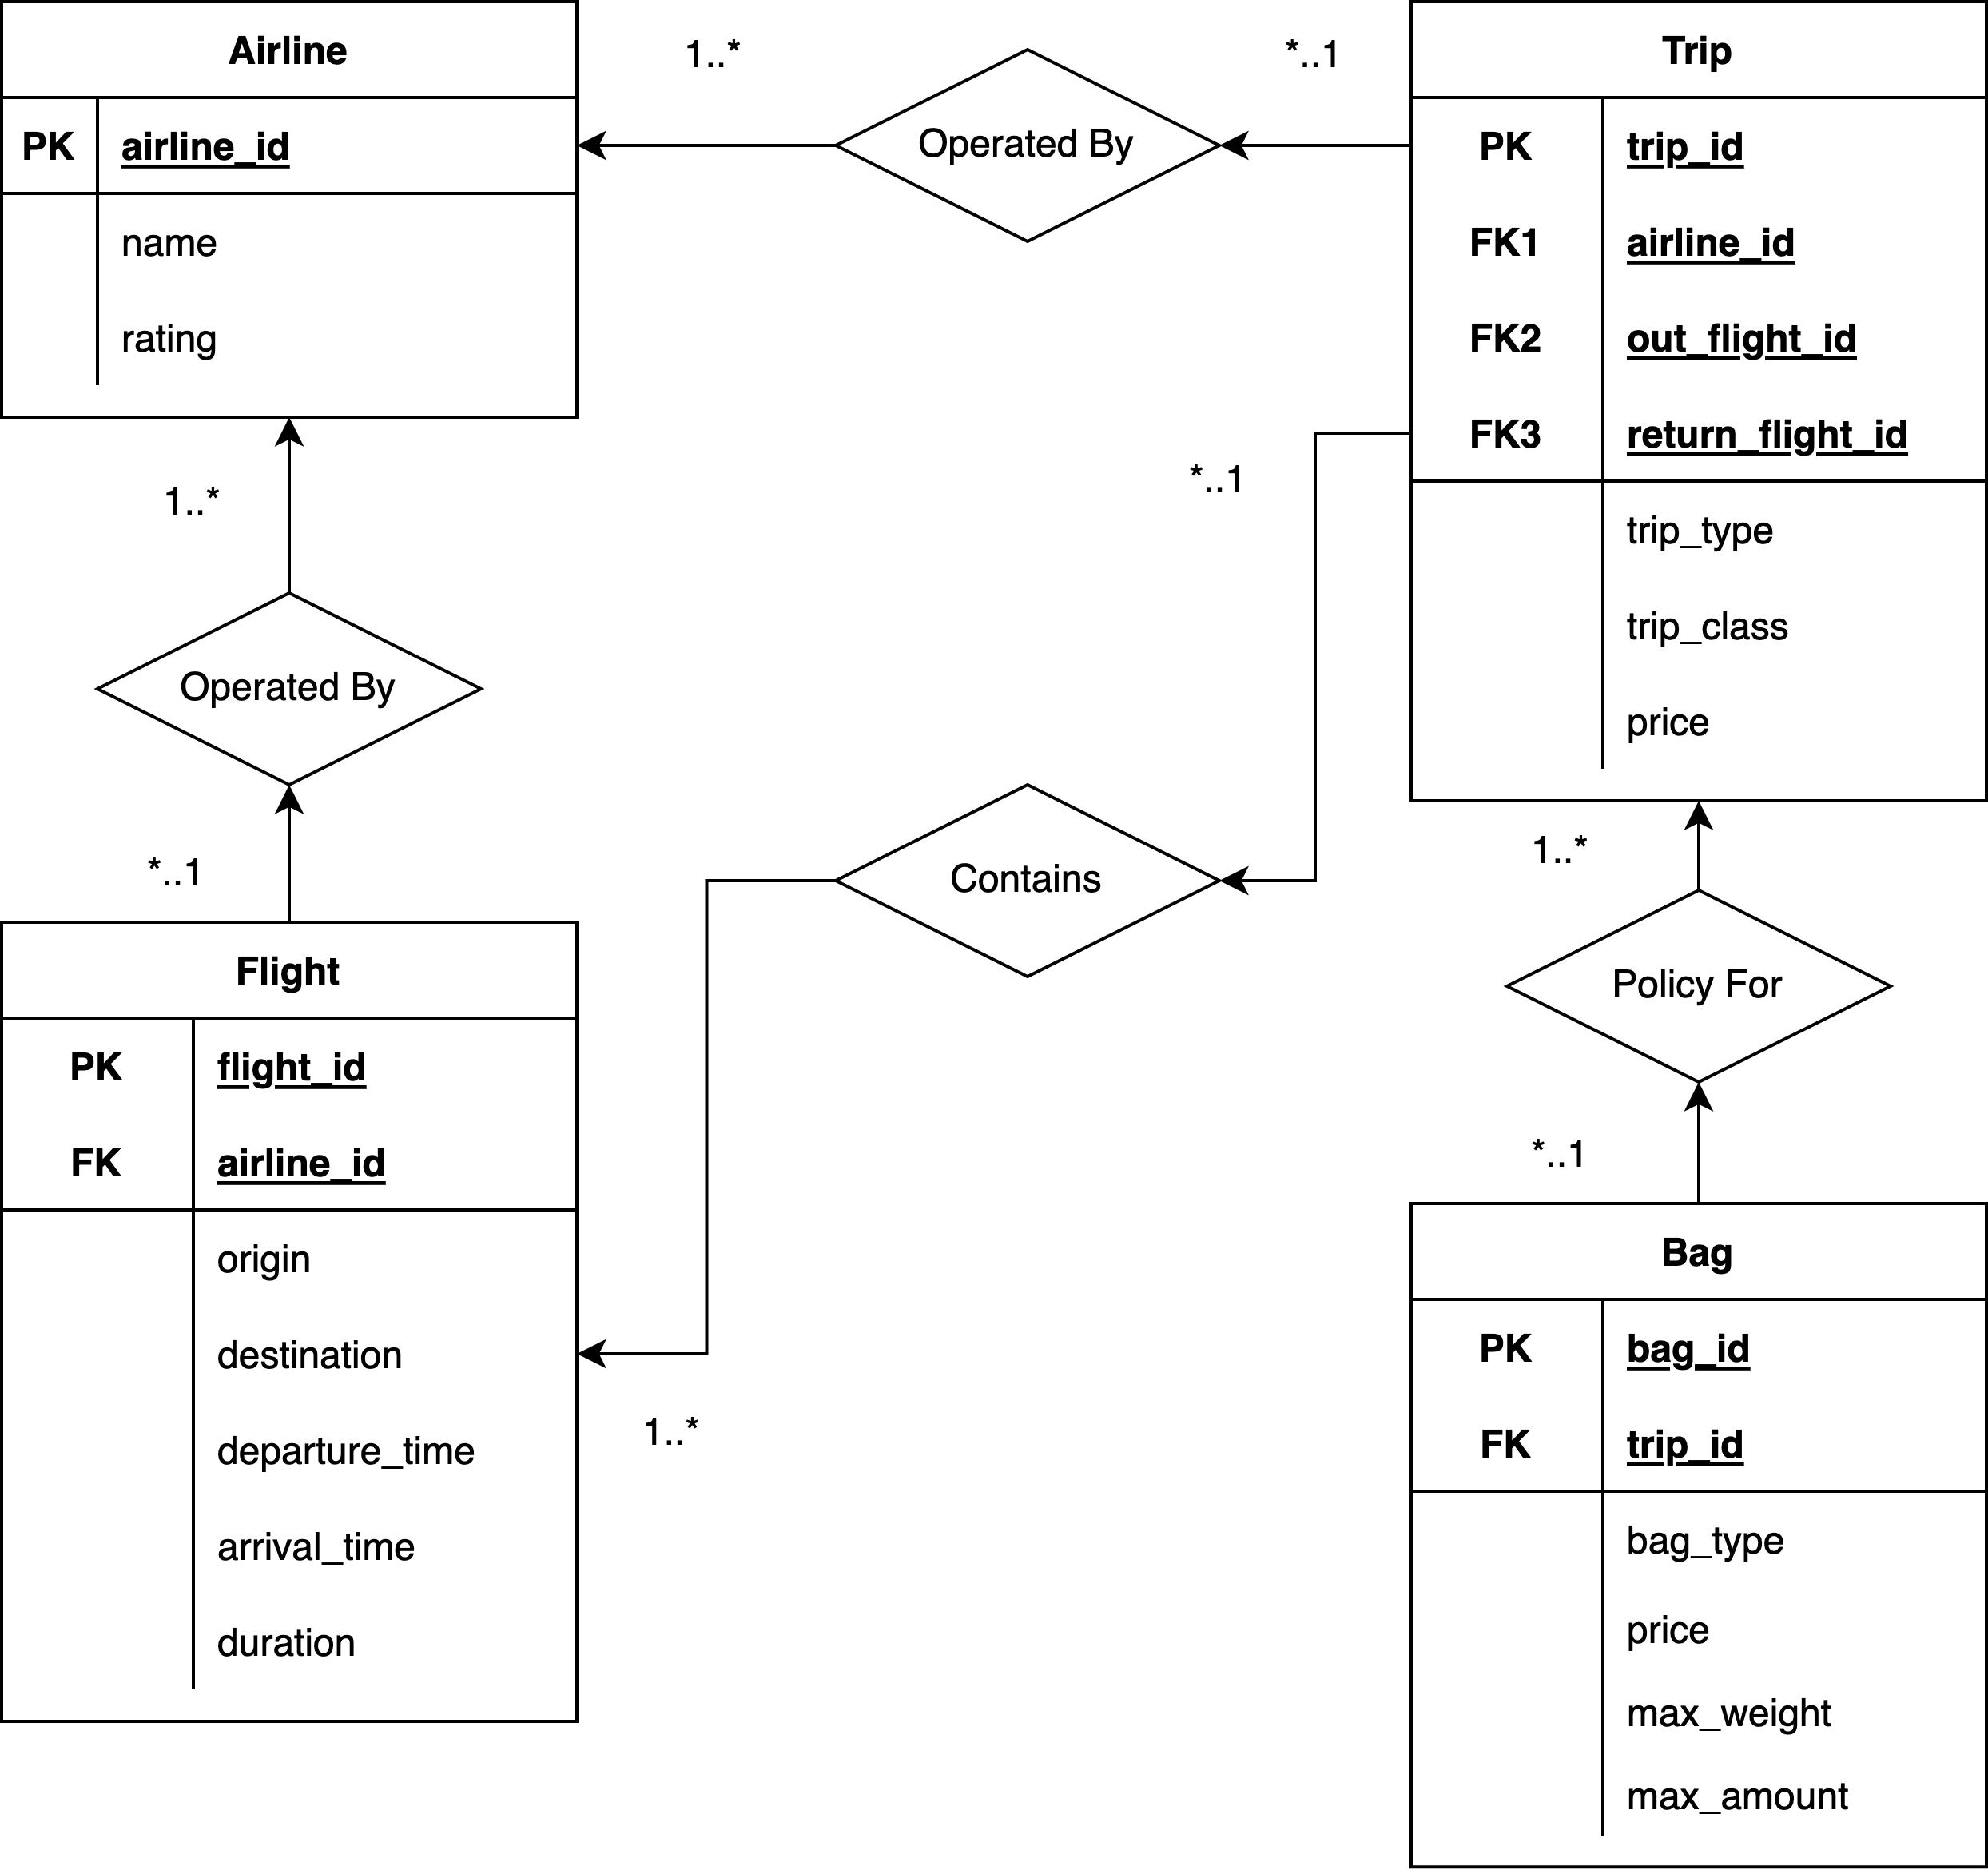entity: (1404, 0, 1988, 812), (0, 919, 580, 1726), (1408, 1199, 1983, 1870), (0, 0, 584, 429)
relationship: (837, 786, 1227, 988), (837, 53, 1230, 248), (91, 598, 476, 787), (1508, 893, 1890, 1081)
